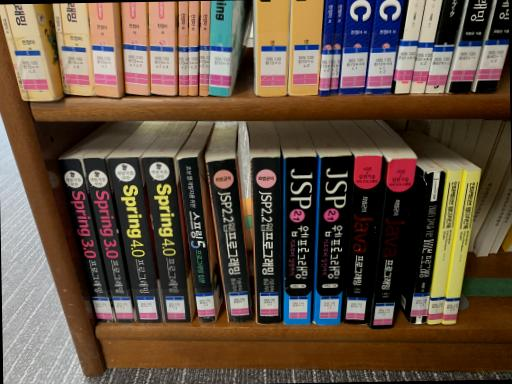book-spine: (58, 159, 116, 323), (108, 157, 163, 323), (83, 158, 135, 323), (142, 157, 191, 323), (370, 159, 416, 329), (207, 158, 253, 323), (314, 155, 354, 324), (343, 156, 383, 324), (177, 157, 216, 323), (442, 170, 482, 324), (284, 157, 318, 324), (410, 171, 447, 324), (428, 169, 463, 324), (252, 157, 283, 324)
